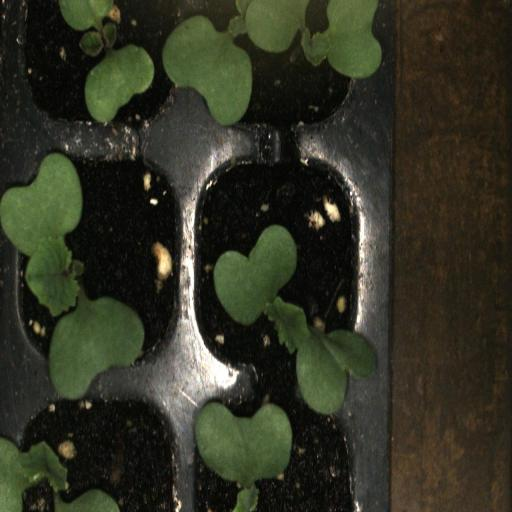Folha: (0, 437, 69, 512), (58, 0, 116, 49)
Germinacao: (193, 137, 373, 386), (10, 136, 192, 376), (12, 0, 195, 135), (194, 0, 374, 135)
